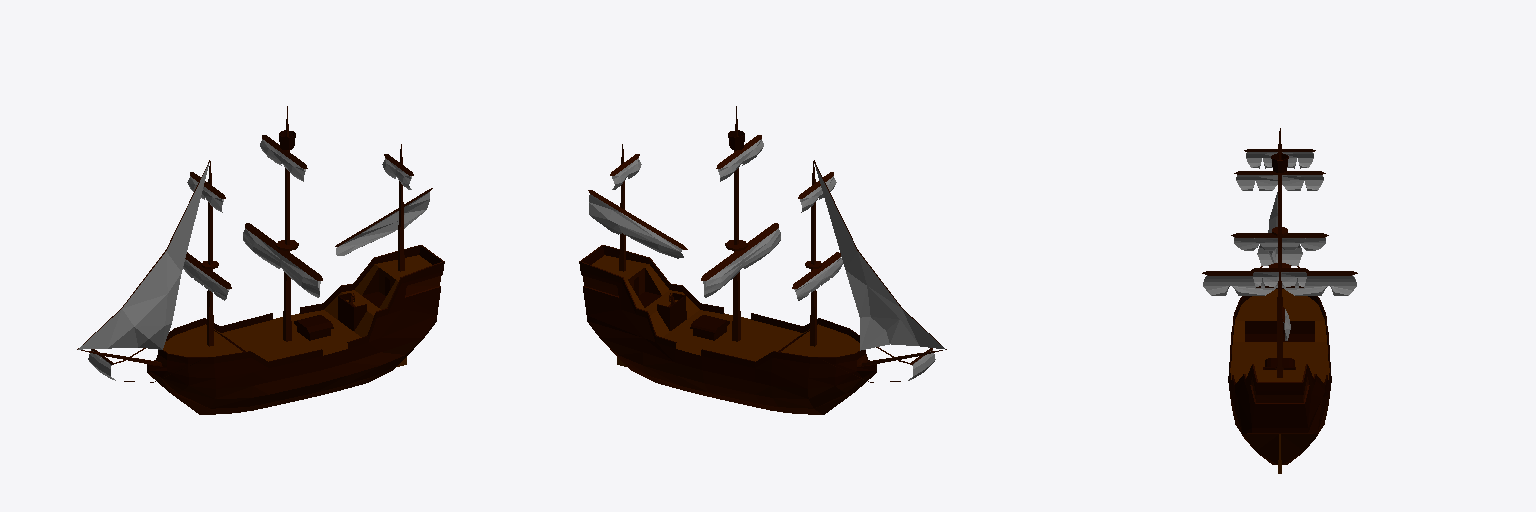
The model's file is ship1.obj.
The picture shows the model from 3 angles: view 1: azimuth 30°, elevation 25°; view 2: azimuth 150°, elevation 25°; view 3: azimuth 270°, elevation 25°; orthographic projection.
Visible parts, largest first — view 1: Box002; view 2: Box002; view 3: Box002.
Part boxes in pixels (bbox=[...]): Box002: bbox=[77, 106, 444, 414]; Box002: bbox=[579, 106, 946, 414]; Box002: bbox=[1202, 128, 1357, 473].
Size of the model in its own units: 424 by 328 by 162.